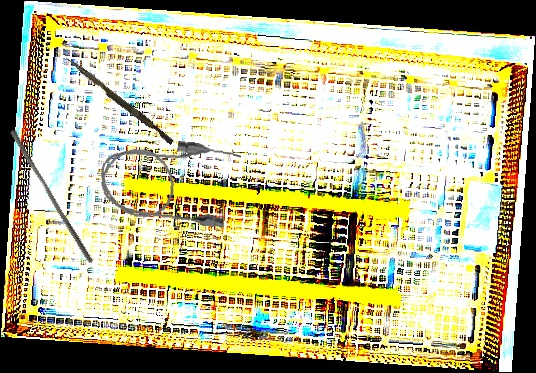Cannula: (96, 133, 242, 229)
Pusher: (5, 128, 99, 265), (61, 55, 177, 146)
